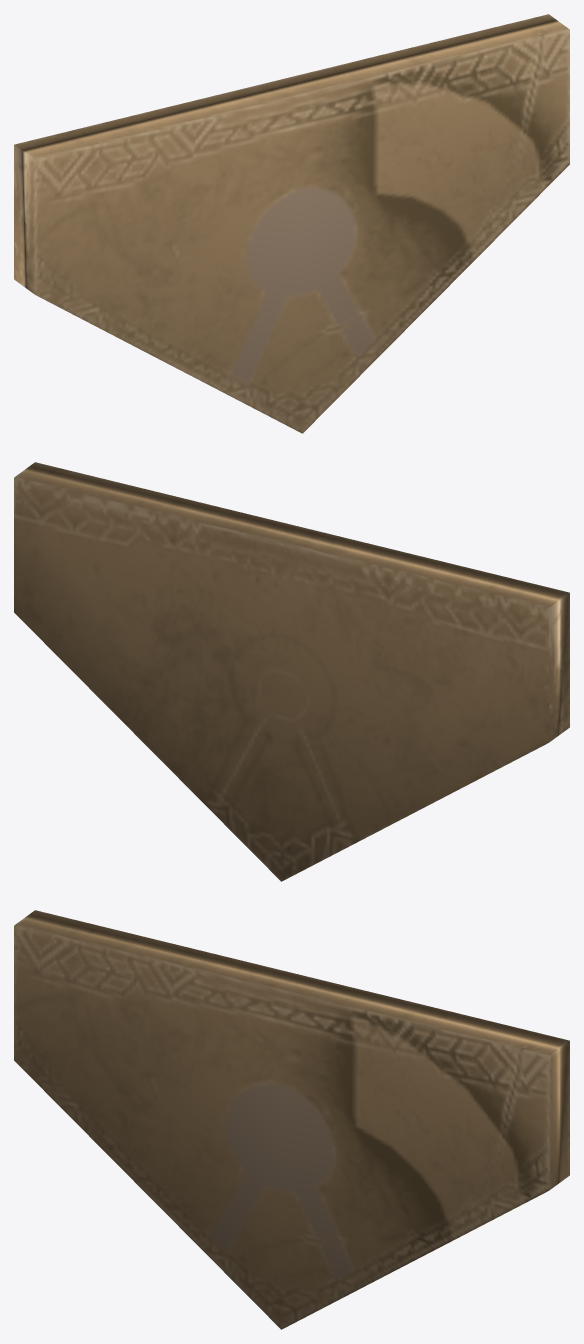
The model's file is FBX_center_little_door.fbx.
3 renders of one model, top to bottom at view 1: azimuth 30°, elevation 25°; view 2: azimuth 150°, elevation 25°; view 3: azimuth 330°, elevation 25°, orthographic.
Parts seen in each view (by area): view 1: polySurface_center_little_door; view 2: polySurface_center_little_door; view 3: polySurface_center_little_door.
Boxes of the visible parts, x1=… form: polySurface_center_little_door: x1=14, y1=14, x2=569, y2=433; polySurface_center_little_door: x1=14, y1=462, x2=569, y2=881; polySurface_center_little_door: x1=14, y1=910, x2=569, y2=1329.
Bounding box in the file's own units: 6.79 × 4.11 × 0.4651.
